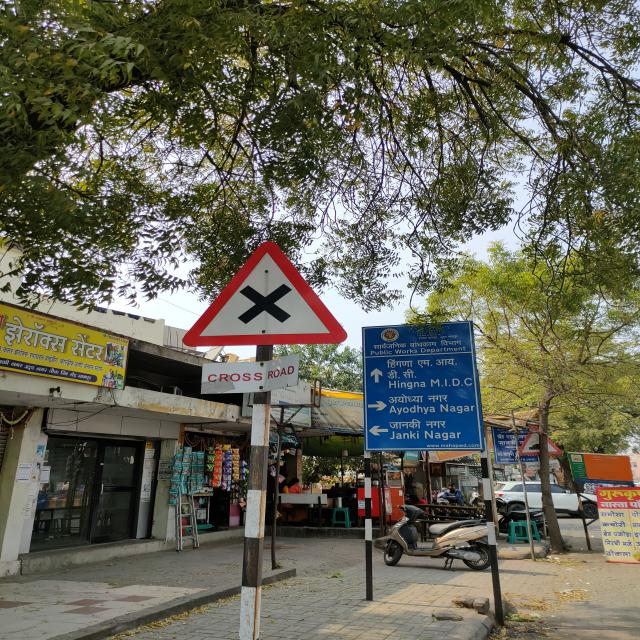CROSS_ROAD: (178, 239, 351, 354)
